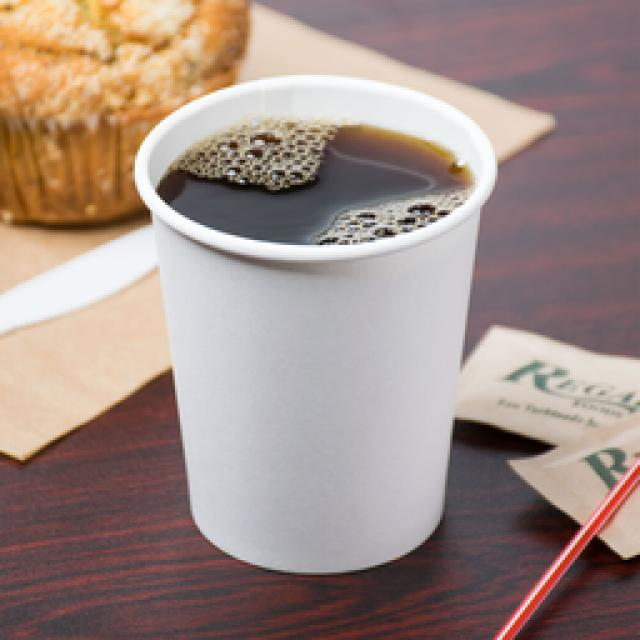paper_cups: (133, 73, 502, 573)
